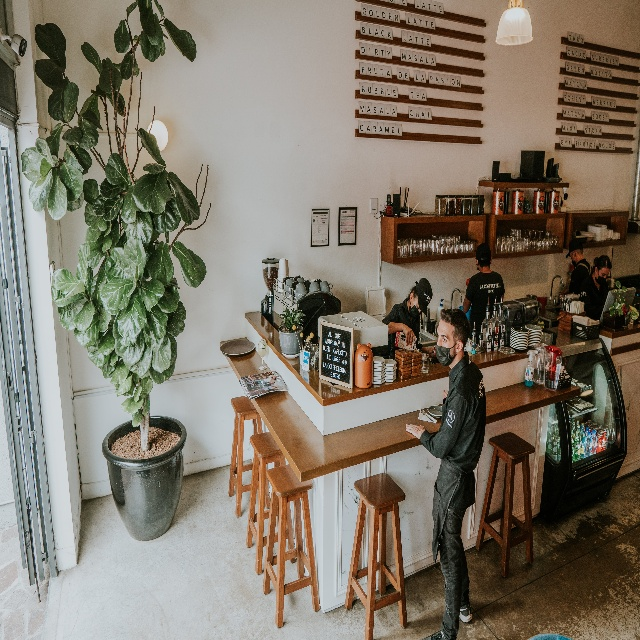Mascara: (436, 338, 463, 366), (409, 292, 421, 320), (595, 267, 607, 284), (571, 250, 577, 265)
Sin_guantes: (405, 422, 426, 439), (403, 323, 415, 345), (428, 345, 437, 357), (442, 389, 448, 401)
